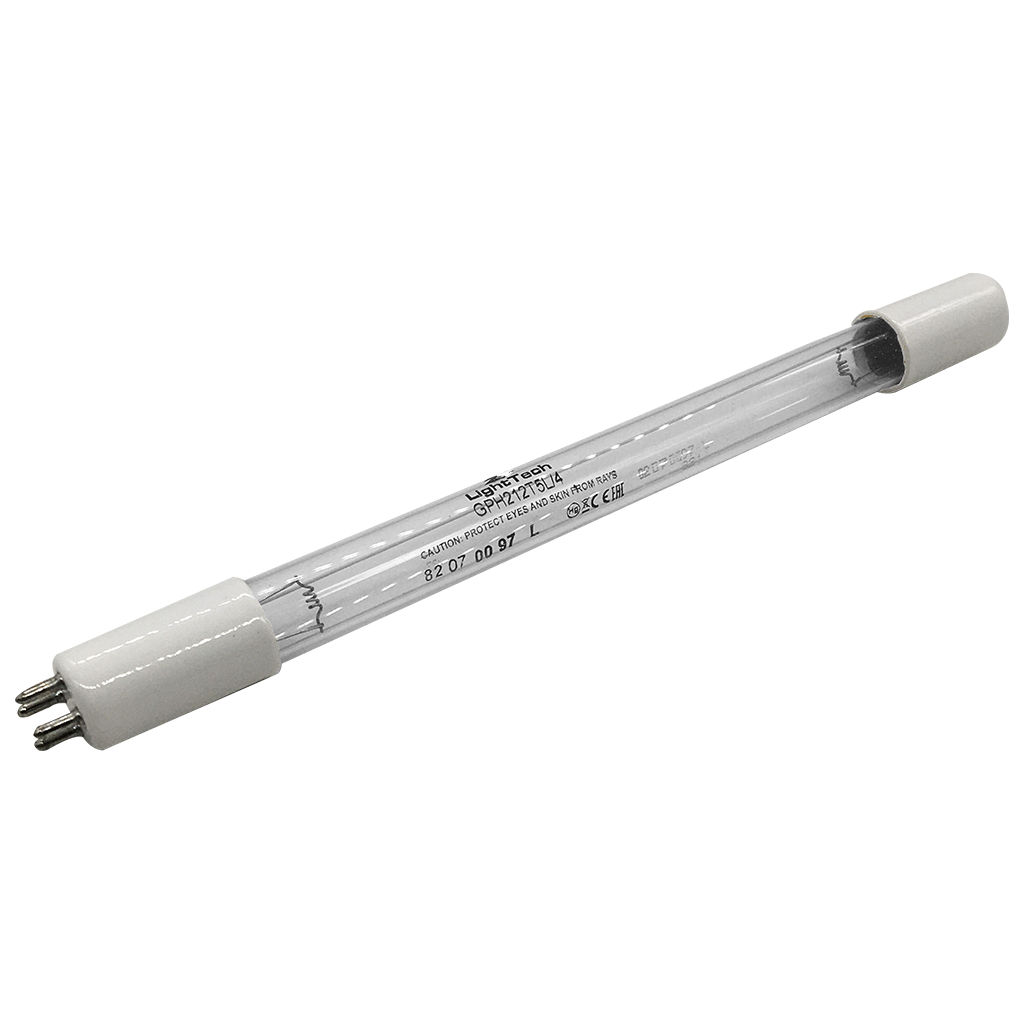Light_bulb: (12, 264, 1016, 769)
